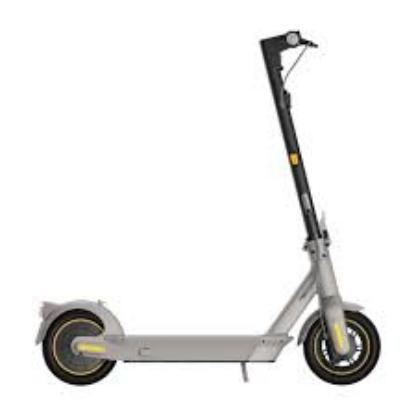bike: (32, 29, 383, 389)
